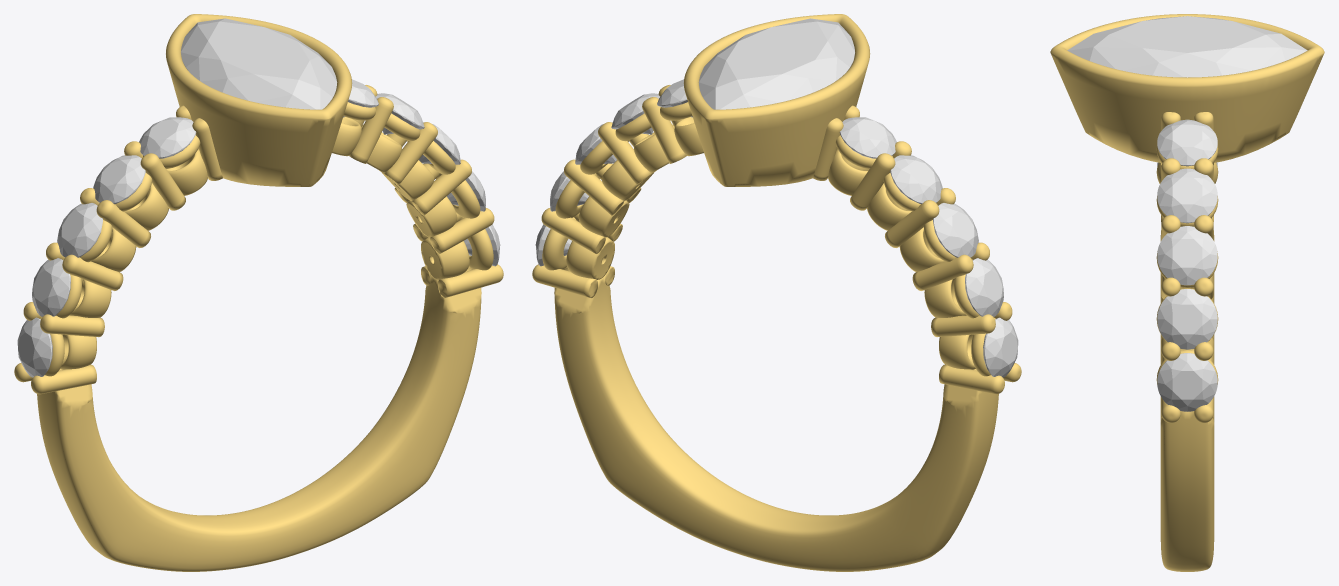
Rendered from diamond-marquise-yellowgold-bezelset-europeanshank-11stone.glb.
3 renders of one model, left to right at view 1: azimuth 30°, elevation 25°; view 2: azimuth 150°, elevation 25°; view 3: azimuth 270°, elevation 25°, orthographic.
Parts seen in each view (by area): view 1: metal.002, stone.002, side.022, side.023, side.021, side.024, side.020, side.028; view 2: metal.002, stone.002, side.022, side.023, side.021, side.024, side.020, side.028; view 3: metal.002, stone.002, side.026, side.027, side.025, side.028, side.029.
Part boxes in pixels (x1,y1,x2,y2): metal.002: (14,14,503,571); stone.002: (181,18,337,109); side.022: (57,203,102,257); side.023: (93,155,145,204); side.021: (32,258,70,316); side.024: (139,117,196,158); side.020: (17,317,52,377); side.028: (376,93,424,134); metal.002: (532,14,1021,571); stone.002: (698,18,854,109); side.022: (933,203,978,257); side.023: (890,155,942,204); side.021: (965,258,1003,316); side.024: (839,117,896,158); side.020: (983,317,1018,377); side.028: (611,93,659,134); metal.002: (1050,14,1324,571); stone.002: (1067,16,1307,77); side.026: (1157,289,1217,349); side.027: (1157,226,1217,285); side.025: (1157,353,1217,411); side.028: (1157,168,1217,223); side.029: (1157,119,1217,166).
Bounding box in the file's own units: 22.1 × 22.73 × 11.31.
